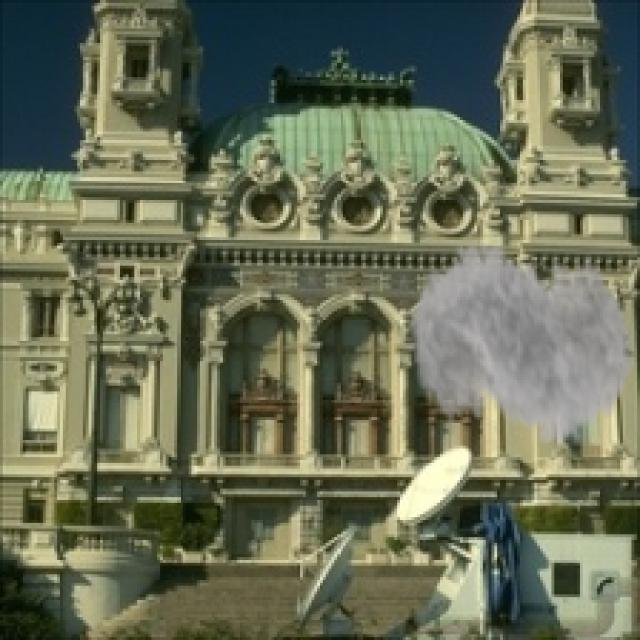Smoke: (408, 214, 634, 466)
